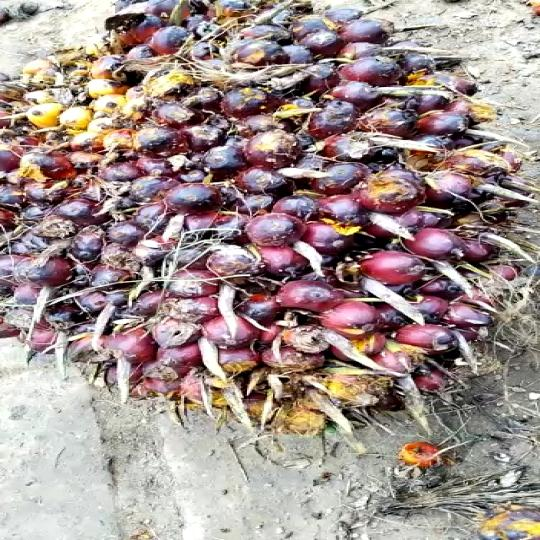kurang masak: (0, 0, 540, 433)
